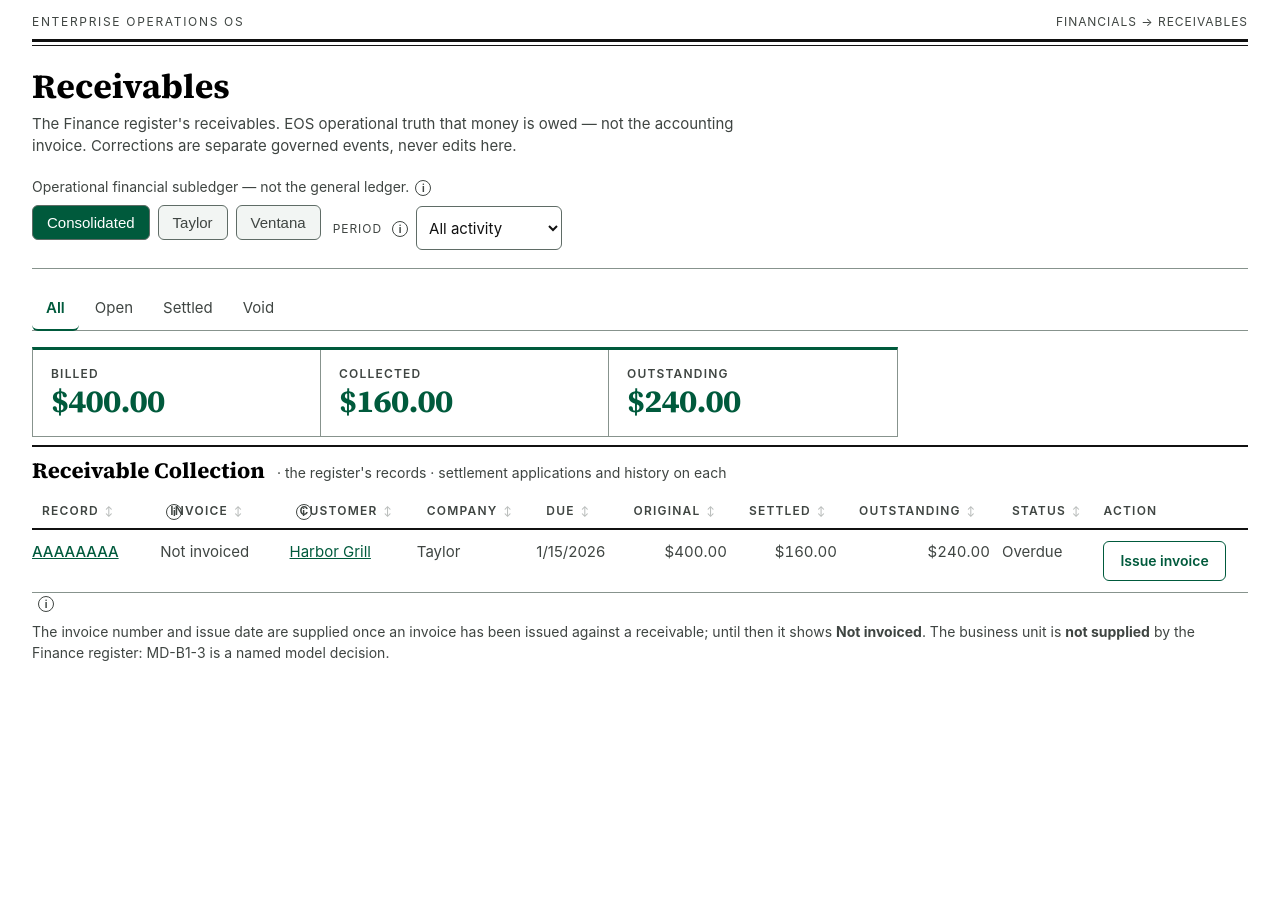
Test case: Receivables — Issue invoice (F-1a-UI) › a holder sees Issue on an un-invoiced receivable and issues it: the package id, one key, no due date; the register is re-read
Click the button "Issue invoice": (1165, 561) [1104,541,1226,581]
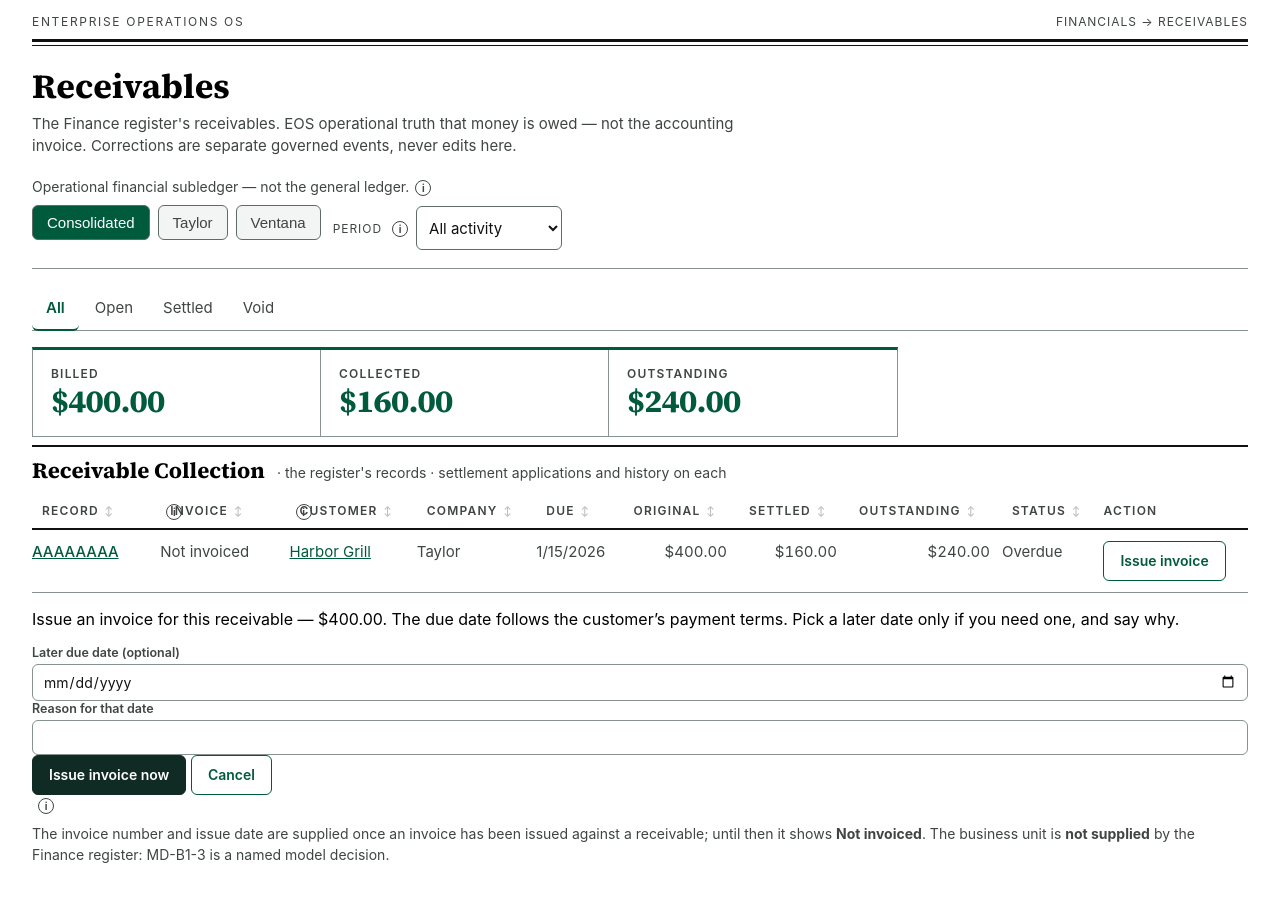
Click the button "Issue invoice now": (109, 775) [32,755,186,795]
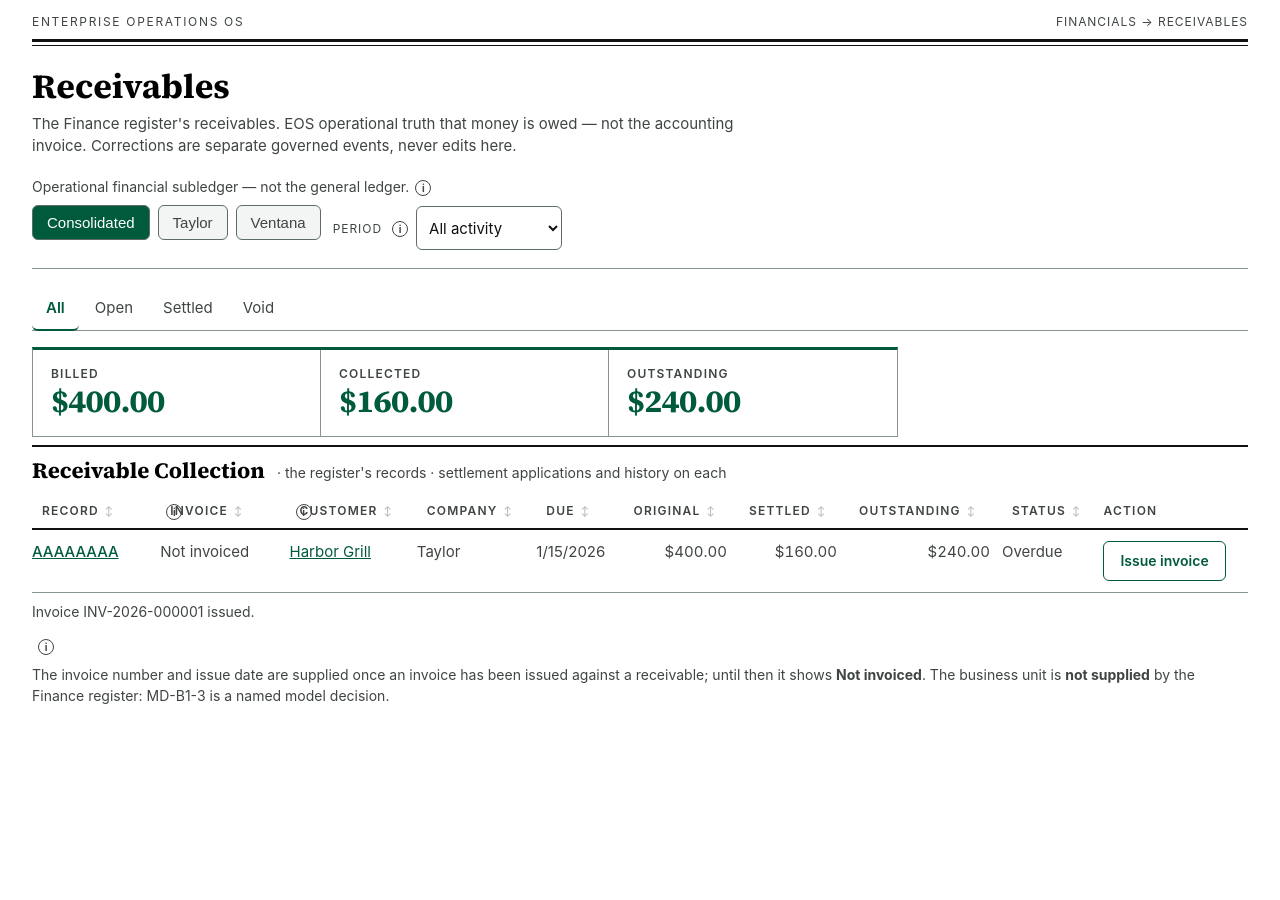
Now the text "Invoice INV-2026-000001 issued." is shown, box [32,603,255,620]
